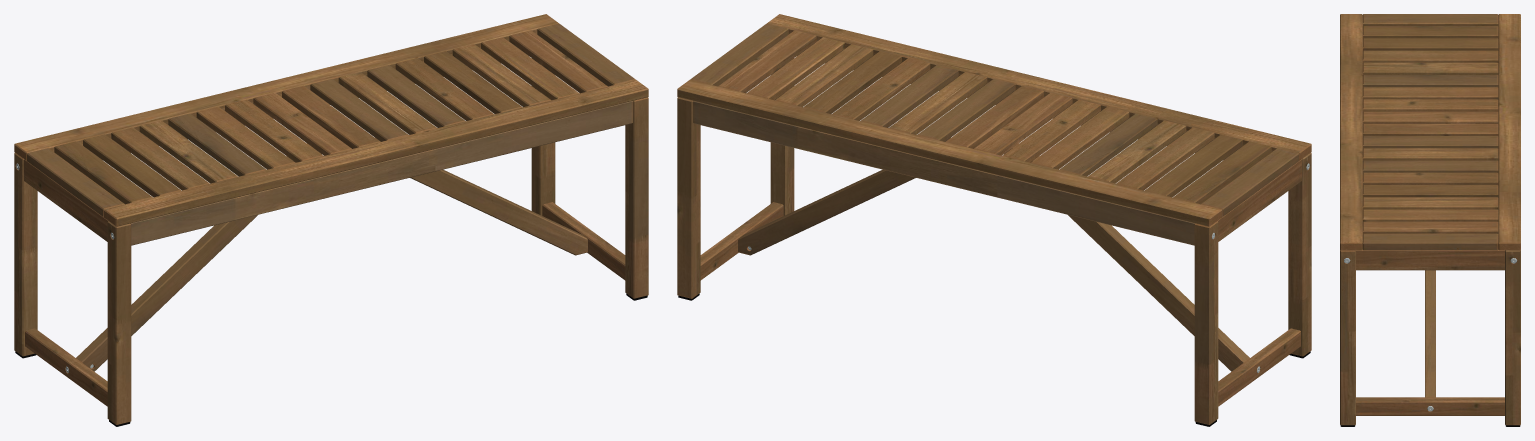
Rendered from nammaro_awa_na_zewnatrz_60510310.glb.
The picture shows the model from 3 angles, left to right: view 1: azimuth 30°, elevation 25°; view 2: azimuth 150°, elevation 25°; view 3: azimuth 270°, elevation 25°; orthographic projection. The views are drawn at different scales.
Visible parts, largest first — view 1: nammaro_awa_na_zewnatrz_60510310; view 2: nammaro_awa_na_zewnatrz_60510310; view 3: nammaro_awa_na_zewnatrz_60510310.
Boxes of the visible parts, box(x1,y1,x2,y2) form: nammaro_awa_na_zewnatrz_60510310: box(14, 14, 648, 426); nammaro_awa_na_zewnatrz_60510310: box(677, 14, 1311, 426); nammaro_awa_na_zewnatrz_60510310: box(1340, 14, 1520, 426).
Bounding box in the file's own units: 1.2 × 0.45 × 0.4.
1 material, 1 textured.
